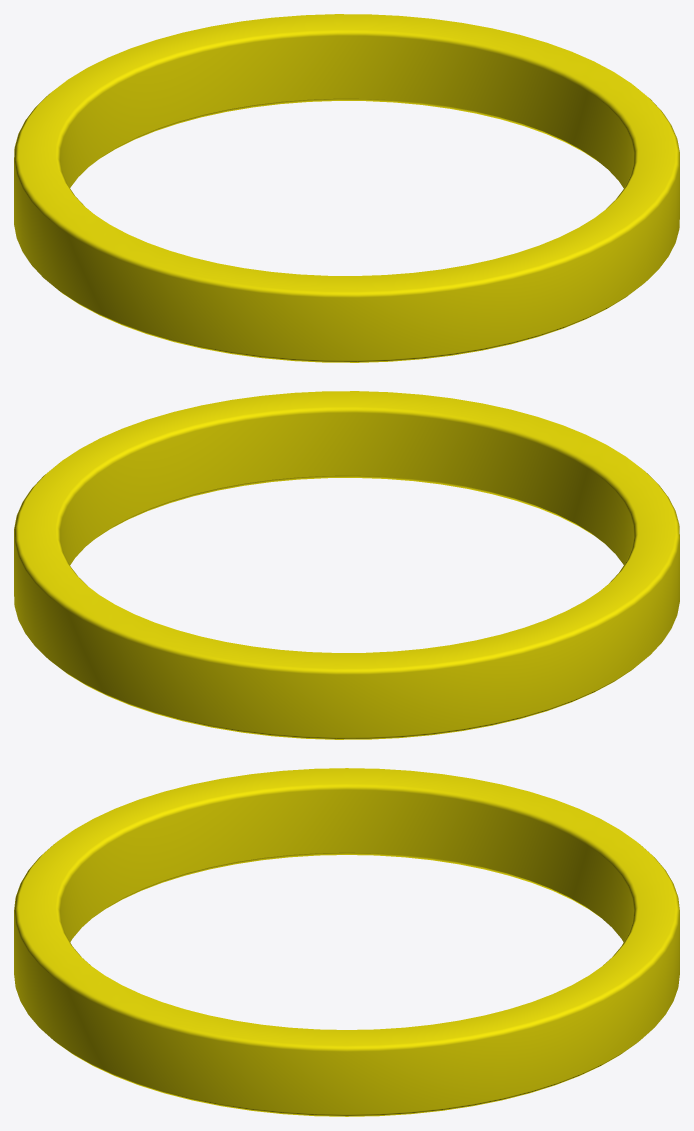
3 views of the same model, one above another, from view 1: azimuth 30°, elevation 25°; view 2: azimuth 150°, elevation 25°; view 3: azimuth 270°, elevation 25° (orthographic).
Parts seen in each view (by area): view 1: seal_body; view 2: seal_body; view 3: seal_body.
Part boxes in pixels (left/top/right/bottom): seal_body: left=14, top=14, right=679, bottom=362; seal_body: left=14, top=391, right=679, bottom=739; seal_body: left=14, top=768, right=679, bottom=1116.
Size of the model in its own units: 0.072 by 0.0085 by 0.072.
